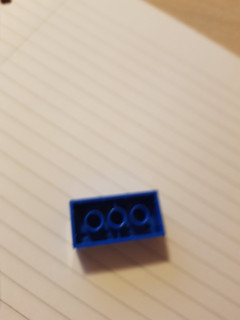2x4 blue: (69, 189, 166, 256)
